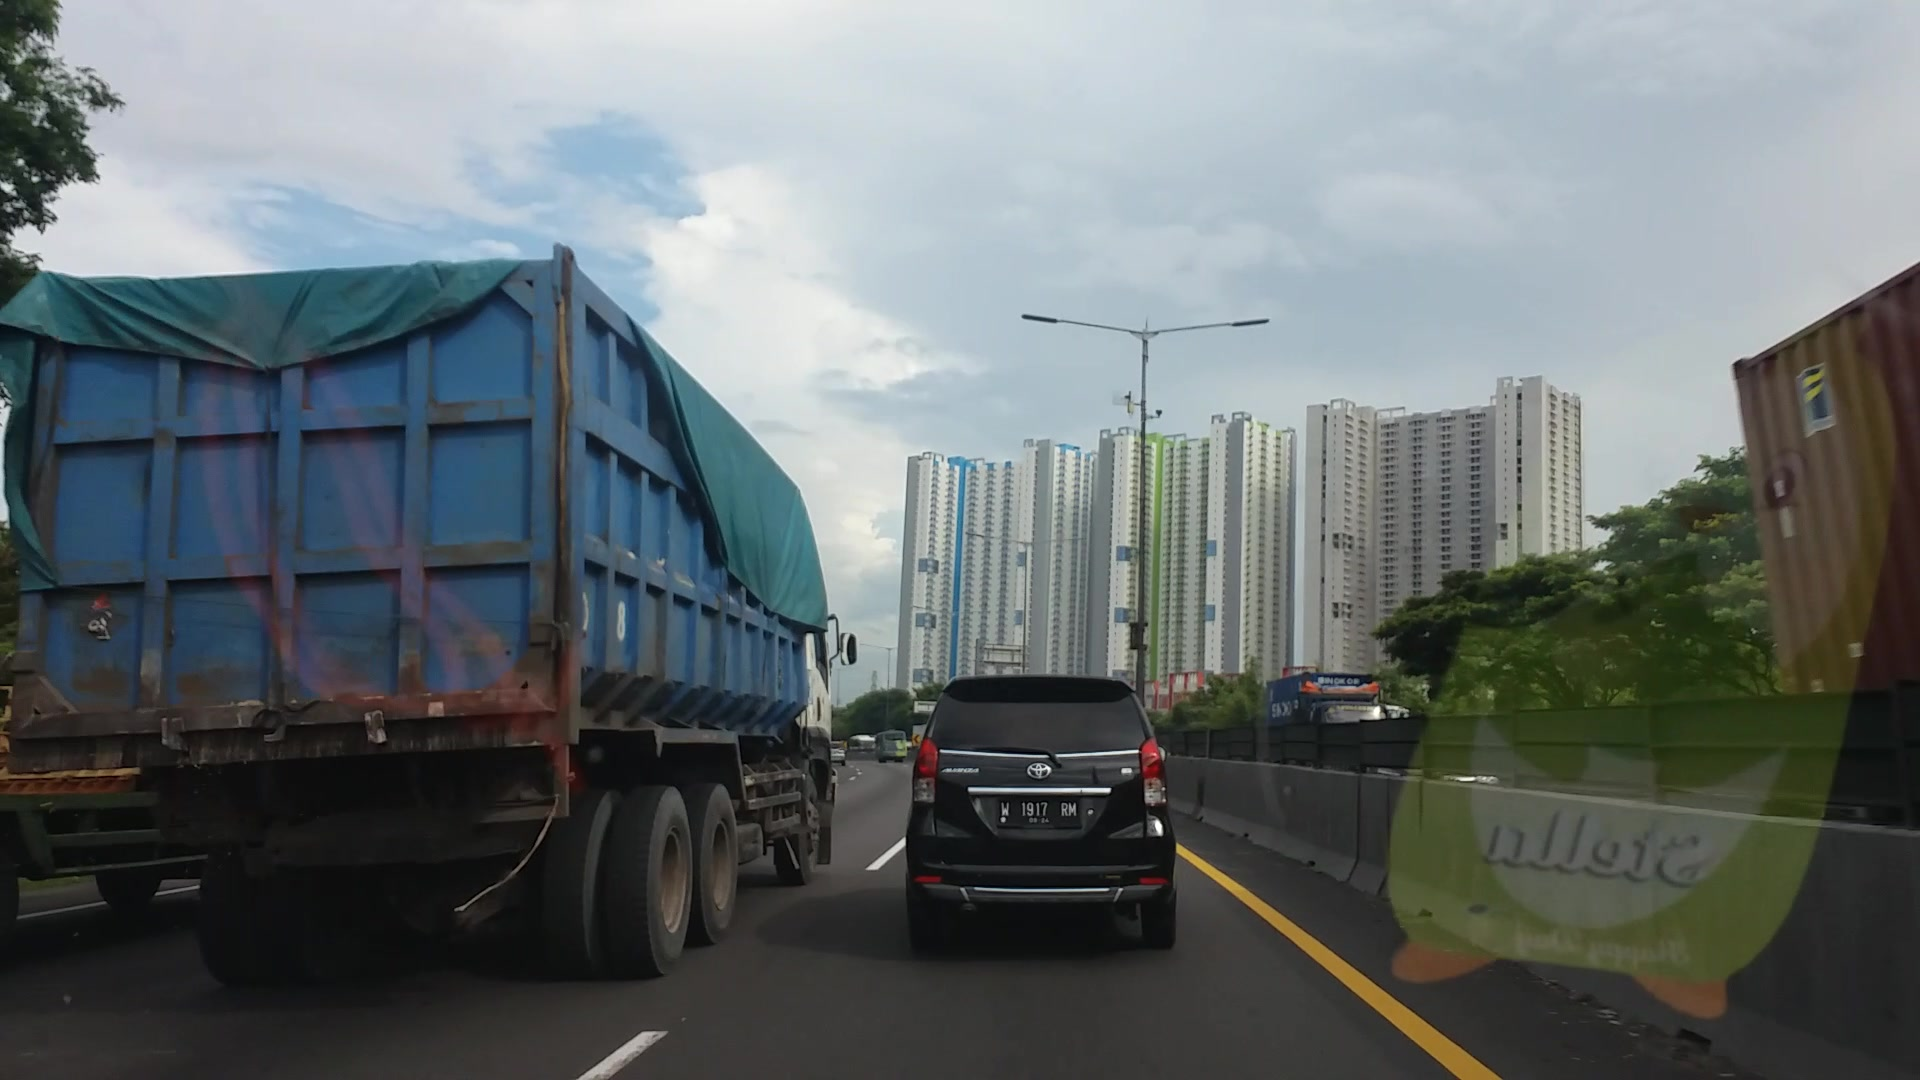plate_positive: (996, 796, 1079, 827)
